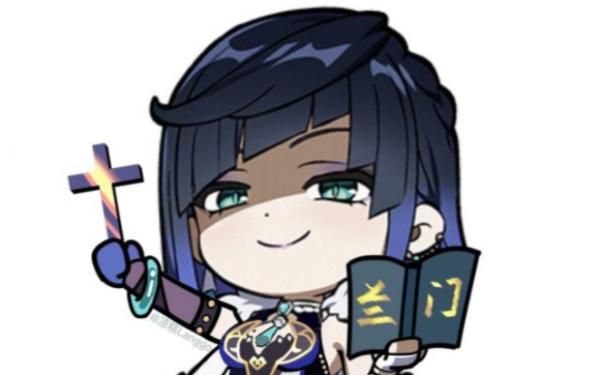夜兰: (62, 7, 484, 375)
